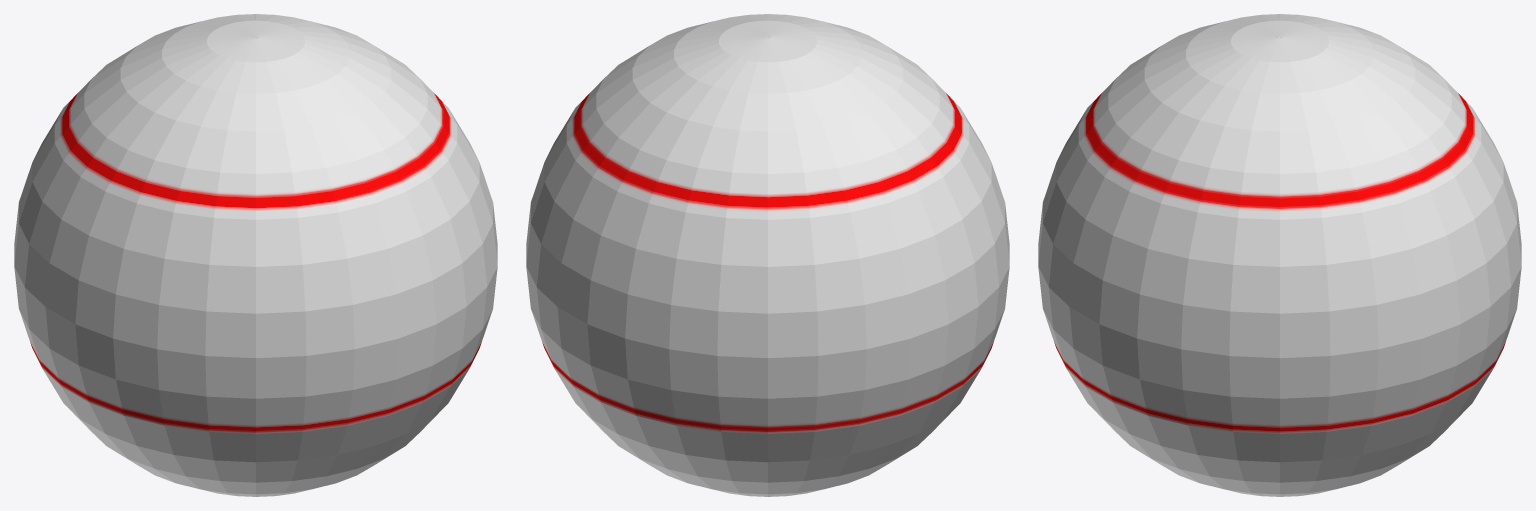
3 views of the same model, side by side, from view 1: azimuth 30°, elevation 25°; view 2: azimuth 150°, elevation 25°; view 3: azimuth 270°, elevation 25° (orthographic).
Visible parts, largest first — view 1: algeomath; view 2: algeomath; view 3: algeomath.
Boxes of the visible parts, left/top/right/bottom form: algeomath: left=14, top=14, right=497, bottom=496; algeomath: left=526, top=14, right=1009, bottom=496; algeomath: left=1038, top=14, right=1521, bottom=496.
Bounding box in the file's own units: 7.79 × 7.72 × 7.75.
1 material, 1 textured.
